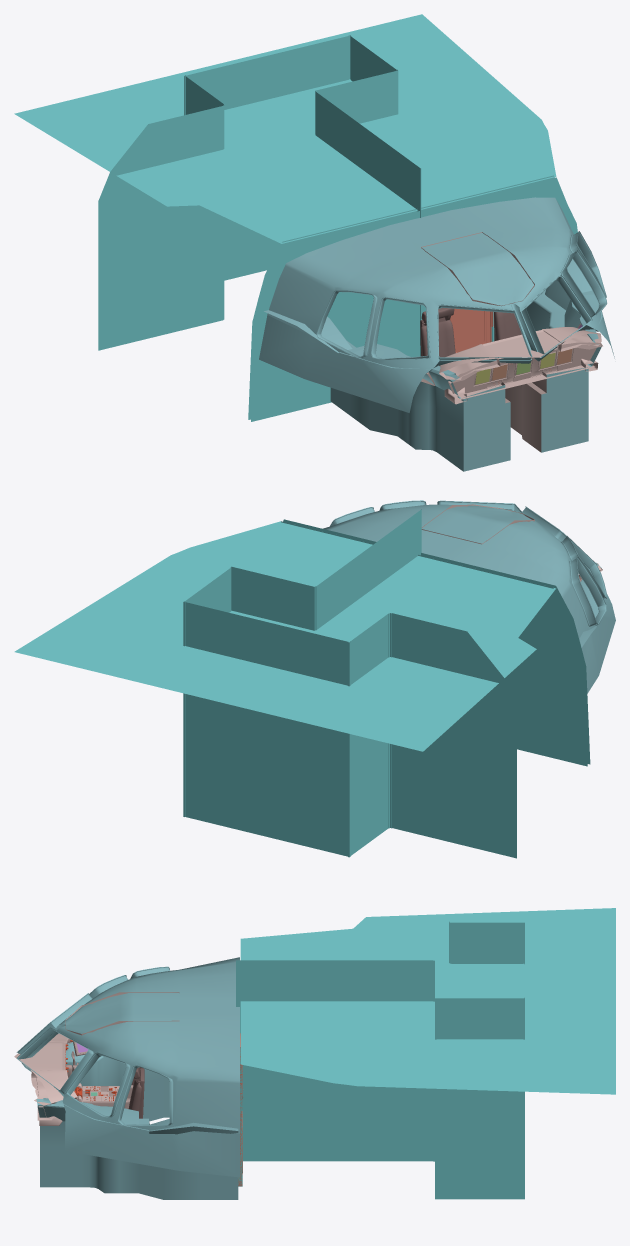
File: Cockpit.fbx
3 views of the same model, one above another, from view 1: azimuth 30°, elevation 25°; view 2: azimuth 150°, elevation 25°; view 3: azimuth 270°, elevation 25° (orthographic). The views are drawn at different scales.
Parts seen in each view (by area): view 1: Back_wall_1_1, Inner_walls, Control_panels_1, Control_panels_2, Central_console, Door, Pilot_seat_R, Pilot_seat_L; view 2: Back_wall_1_1, Inner_walls; view 3: Back_wall_1_1, Inner_walls, Control_panels_2, Control_panels_1, Pilot_seat_L.
Part boxes in pixels (box(x1,y1,x2,y2)): Back_wall_1_1: box(14, 14, 577, 421); Inner_walls: box(259, 197, 614, 471); Control_panels_1: box(421, 232, 602, 404); Control_panels_2: box(439, 327, 601, 379); Central_console: box(501, 372, 546, 452); Door: box(450, 308, 493, 352); Pilot_seat_R: box(420, 307, 455, 365); Pilot_seat_L: box(494, 312, 521, 341); Back_wall_1_1: box(14, 509, 590, 858); Inner_walls: box(323, 500, 615, 693); Back_wall_1_1: box(236, 908, 615, 1199); Inner_walls: box(16, 957, 239, 1199); Control_panels_2: box(14, 1033, 77, 1105); Control_panels_1: box(36, 992, 179, 1125); Pilot_seat_L: box(128, 1067, 144, 1118).
Size of the model in its own units: 522 by 259 by 703.
